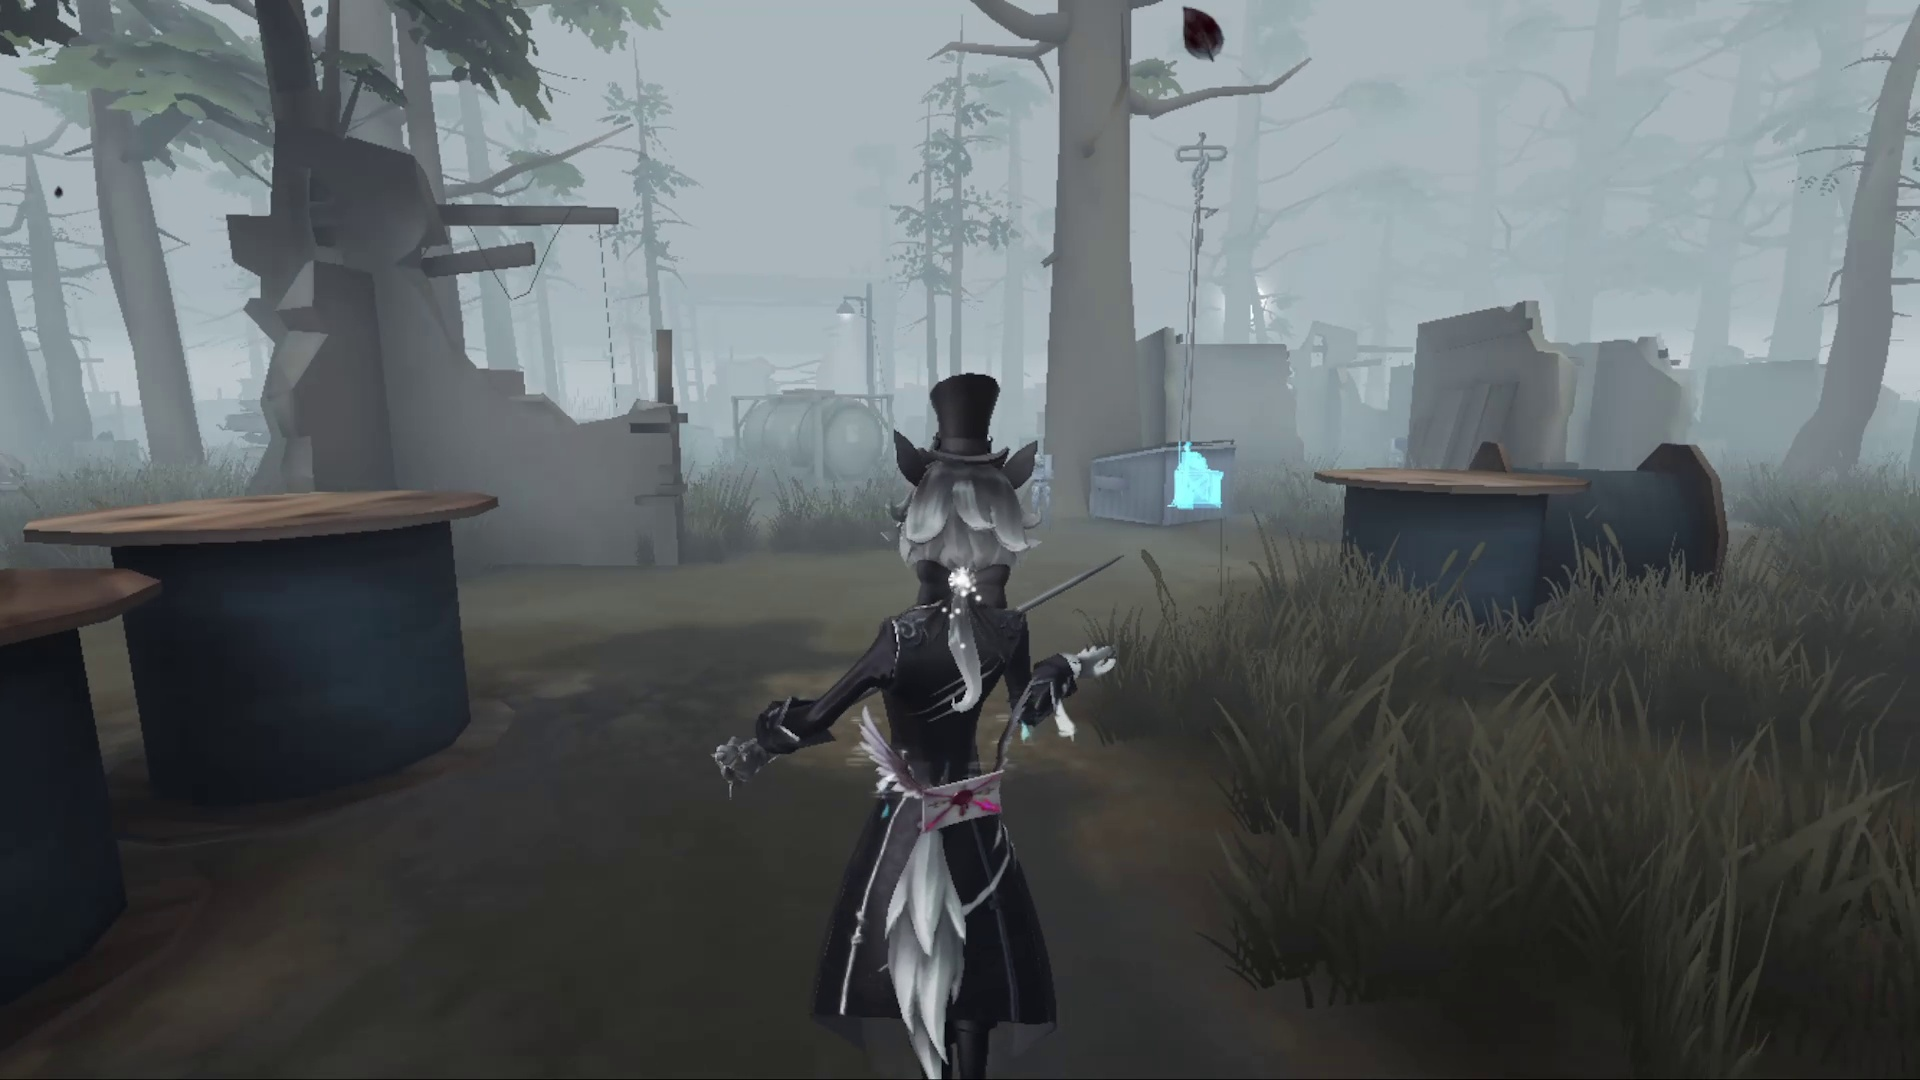密码机: (1178, 123, 1241, 529)
